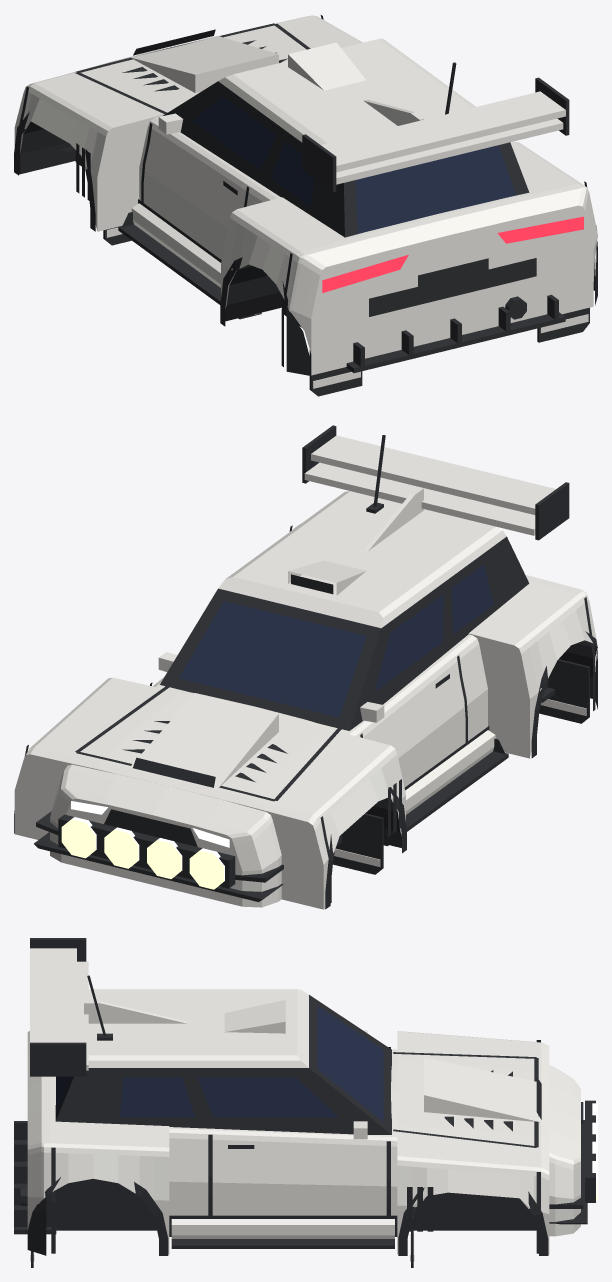
File: Tsubasa.glb
3 views of the same model, one above another, from view 1: azimuth 30°, elevation 25°; view 2: azimuth 150°, elevation 25°; view 3: azimuth 270°, elevation 25° (orthographic). The views are drawn at different scales.
Visible parts, largest first — view 1: BumperRear, Roof, RoofWingBlade, Hood, Door_FL, RearWindow, Fender_FL, Pillars, Cowl, Opt_Hood_Scoop_HoodScoop, Underbody, Fender_RL (+20 smaller); view 2: BumperFront, Roof, Hood, Windshield, Pillars, RoofWingBlade, Fender_RL, Opt_Hood_Scoop_HoodScoop, Door_FL, Opt_Bumper_Lamps_RallyLamp, Fender_FL, Cowl (+18 smaller); view 3: Roof, Door_FR, Hood, Pillars, Fender_RR, WheelWell, BumperFront, Fender_FR, RoofWingBlade, Opt_Hood_Scoop_HoodScoop, Window_FR, Windshield (+17 smaller).
Boxes of the visible parts, bbox=[...] form: BumperRear: bbox=[286, 184, 597, 375]; Roof: bbox=[218, 38, 475, 144]; RoofWingBlade: bbox=[321, 91, 565, 184]; Hood: bbox=[35, 15, 360, 127]; Door_FL: bbox=[143, 120, 256, 259]; RearWindow: bbox=[355, 145, 516, 233]; Fender_FL: bbox=[20, 83, 157, 231]; Pillars: bbox=[163, 81, 529, 237]; Cowl: bbox=[178, 132, 578, 251]; Opt_Hood_Scoop_HoodScoop: bbox=[130, 35, 278, 92]; Underbody: bbox=[19, 121, 282, 321]; Fender_RL: bbox=[221, 185, 300, 308]; BumperFront: bbox=[14, 747, 327, 909]; Roof: bbox=[218, 491, 506, 628]; Hood: bbox=[35, 677, 390, 814]; Windshield: bbox=[179, 601, 366, 717]; Pillars: bbox=[160, 536, 529, 730]; RoofWingBlade: bbox=[304, 435, 555, 535]; Fender_RL: bbox=[451, 594, 592, 758]; Opt_Hood_Scoop_HoodScoop: bbox=[129, 693, 278, 788]; Door_FL: bbox=[352, 652, 465, 787]; Opt_Bumper_Lamps_RallyLamp: bbox=[61, 817, 224, 889]; Fender_FL: bbox=[313, 732, 405, 863]; Cowl: bbox=[158, 580, 578, 731]; Roof: bbox=[88, 989, 308, 1067]; Door_FR: bbox=[208, 1130, 390, 1215]; Hood: bbox=[391, 1031, 541, 1167]; Pillars: bbox=[55, 995, 391, 1134]; Fender_RR: bbox=[51, 1128, 208, 1254]; WheelWell: bbox=[28, 1178, 536, 1230]; BumperFront: bbox=[541, 1042, 580, 1255]; Fender_FR: bbox=[391, 1137, 541, 1254]; RoofWingBlade: bbox=[30, 948, 88, 1070]; Opt_Hood_Scoop_HoodScoop: bbox=[424, 1057, 541, 1122]; Window_FR: bbox=[197, 1077, 338, 1117]; Windshield: bbox=[317, 1005, 383, 1121].
Bounding box in the file's own units: 7.06 × 5.84 × 12.45.
